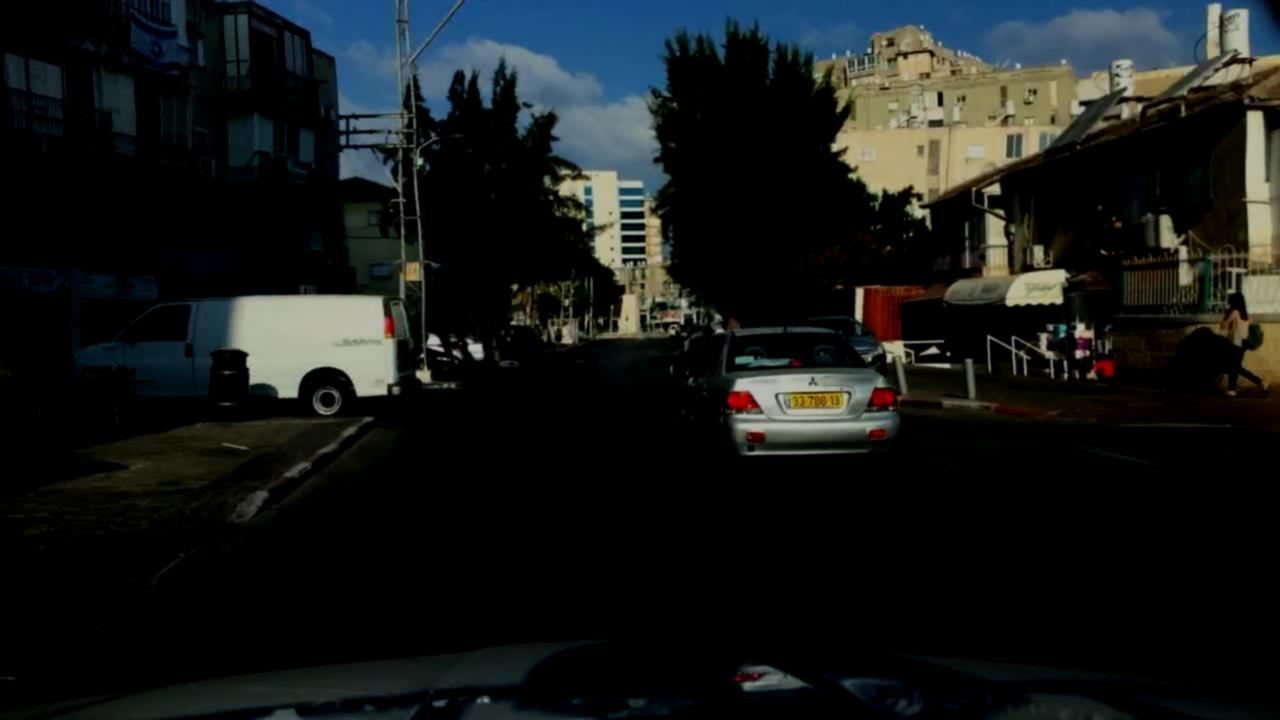Mitsubishi: (802, 371, 824, 391)
